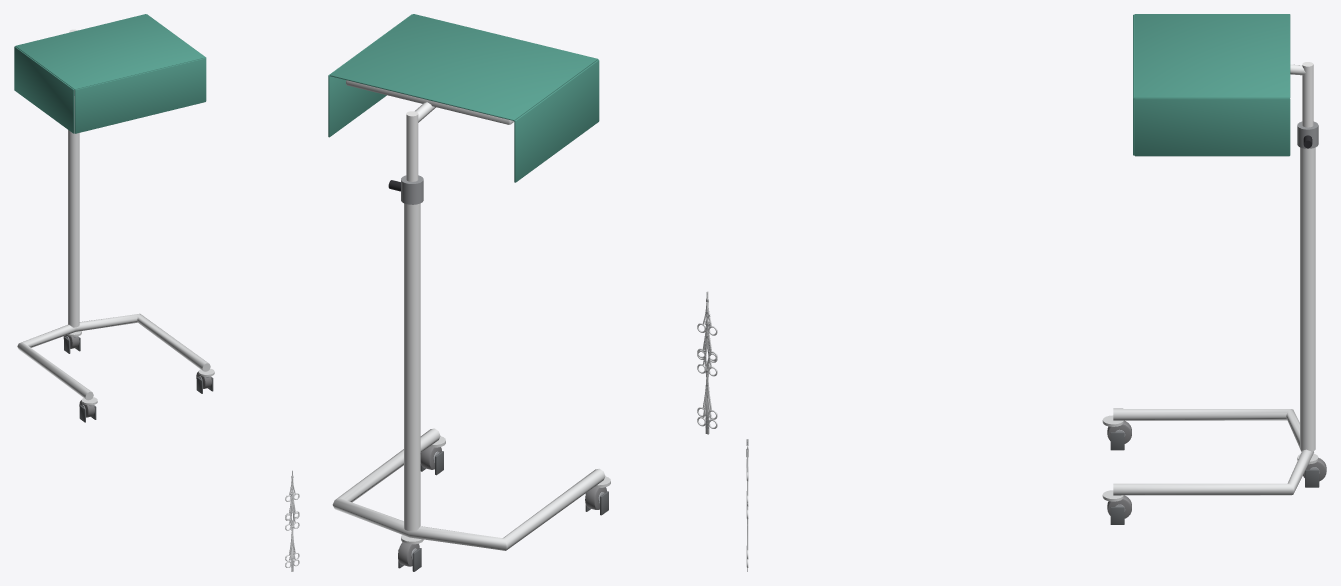
The model's file is MayoStand.fbx.
3 views of the same model, side by side, from view 1: azimuth 30°, elevation 25°; view 2: azimuth 150°, elevation 25°; view 3: azimuth 270°, elevation 25° (orthographic). The views are drawn at different scales.
Visible parts, largest first — view 1: MayoStand_Mesh; view 2: MayoStand_Mesh; view 3: MayoStand_Mesh.
Part boxes in pixels (x1,y1,x2,y2): MayoStand_Mesh: [14, 14, 214, 422]; MayoStand_Mesh: [328, 14, 610, 571]; MayoStand_Mesh: [1102, 14, 1326, 524].
Bounding box in the file's own units: 0.569 × 1.6 × 1.64.
